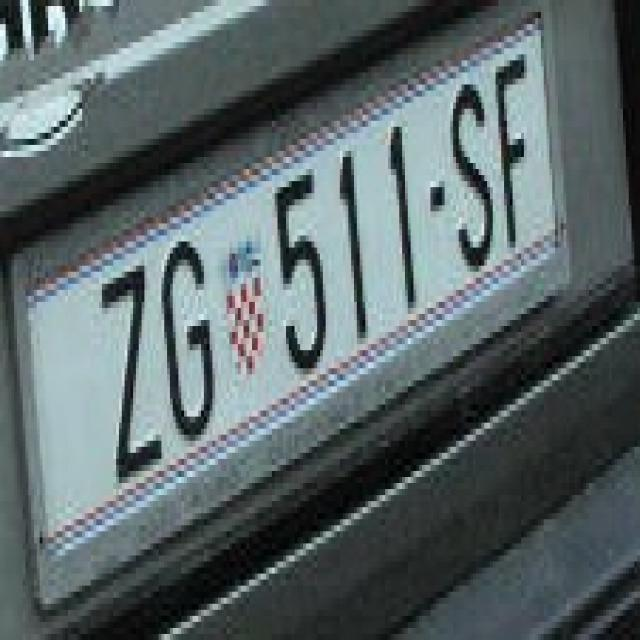1: (334, 138, 377, 356), (382, 115, 422, 332)
5: (272, 168, 328, 380)
F: (490, 48, 532, 260)
G: (158, 241, 218, 453)
S: (448, 72, 496, 278)
Z: (99, 259, 162, 502)
